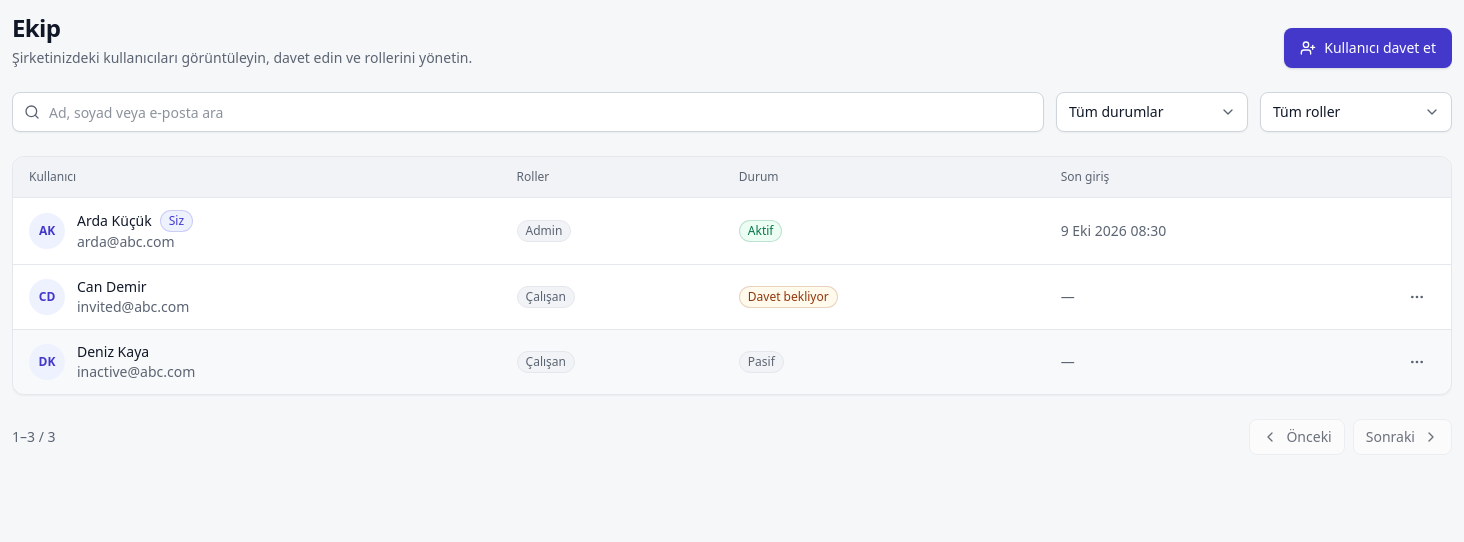
Test: TeamPage › resends a pending invitation
The width and height of the screenshot is (1464, 542).
expect the text "invited@abc.com" is shown: met, box top-left (77, 297), bottom-right (189, 317)
Click the button named "işlemler". click: (1417, 297)
box: top-left (1399, 279), bottom-right (1435, 315)
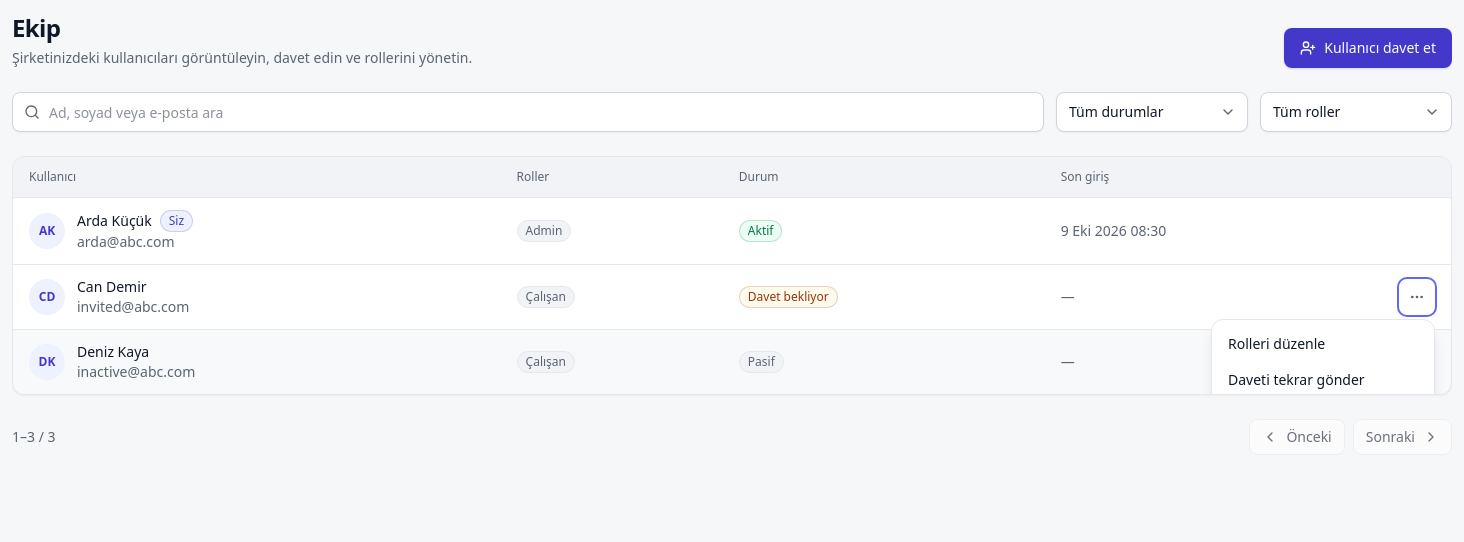
Click the menu item "Daveti tekrar gönder". click: (1323, 380)
box: top-left (1218, 362), bottom-right (1428, 398)
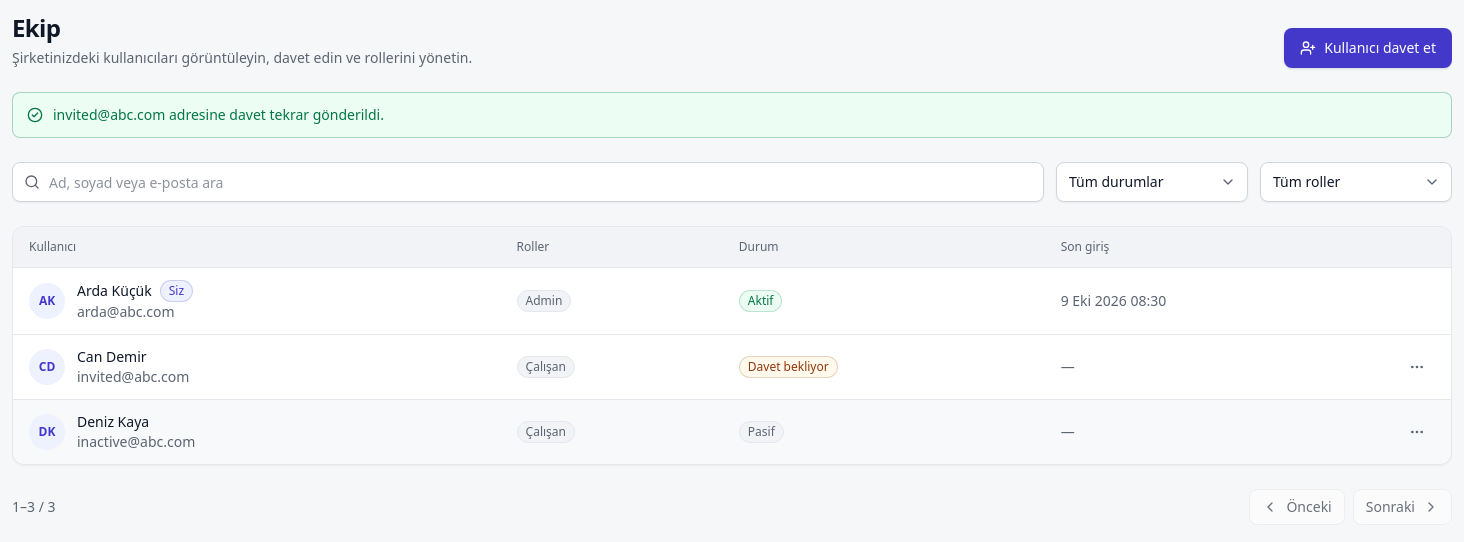
expect the text "invited@abc.com adresine davet tekrar gönderildi." is shown: met, box top-left (53, 105), bottom-right (384, 125)
